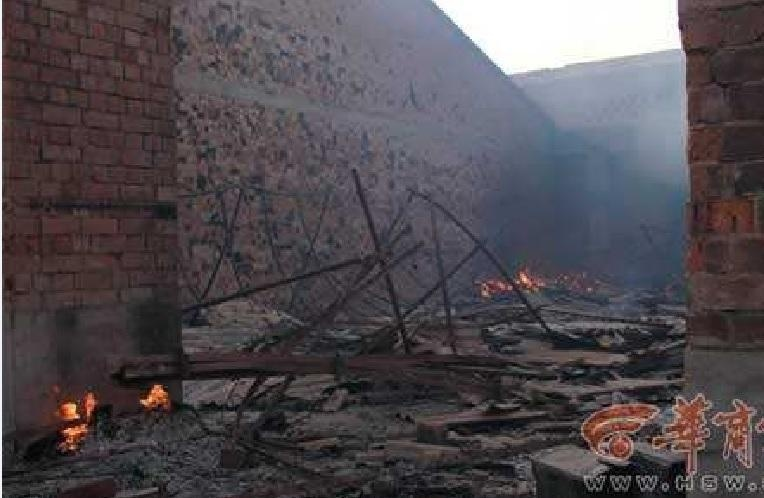fire: (50, 383, 98, 449), (136, 379, 173, 411)
